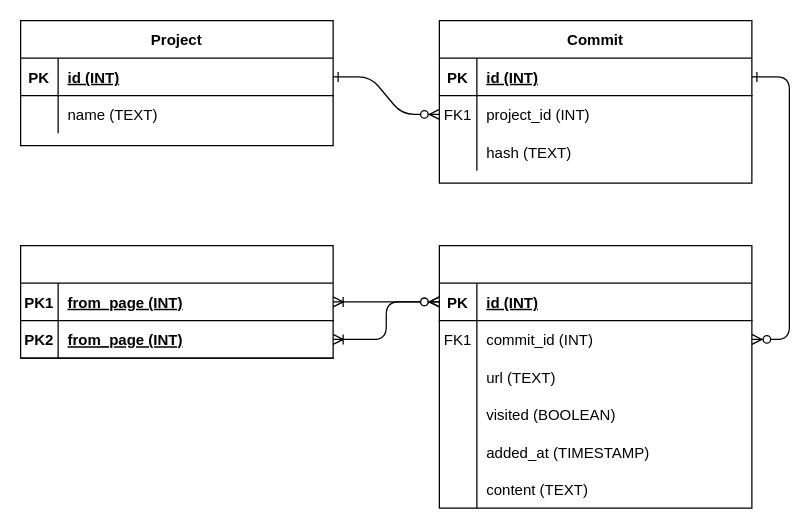
Some shapes in this 810 by 529 pixel diagram are drawn without their labels. The shapes that lost their labels are listed below. From the top down, each one's box as (x1, y1, x2, y2) in pixels, then its label:
(19, 244, 333, 358): Link
(438, 244, 752, 508): Page
